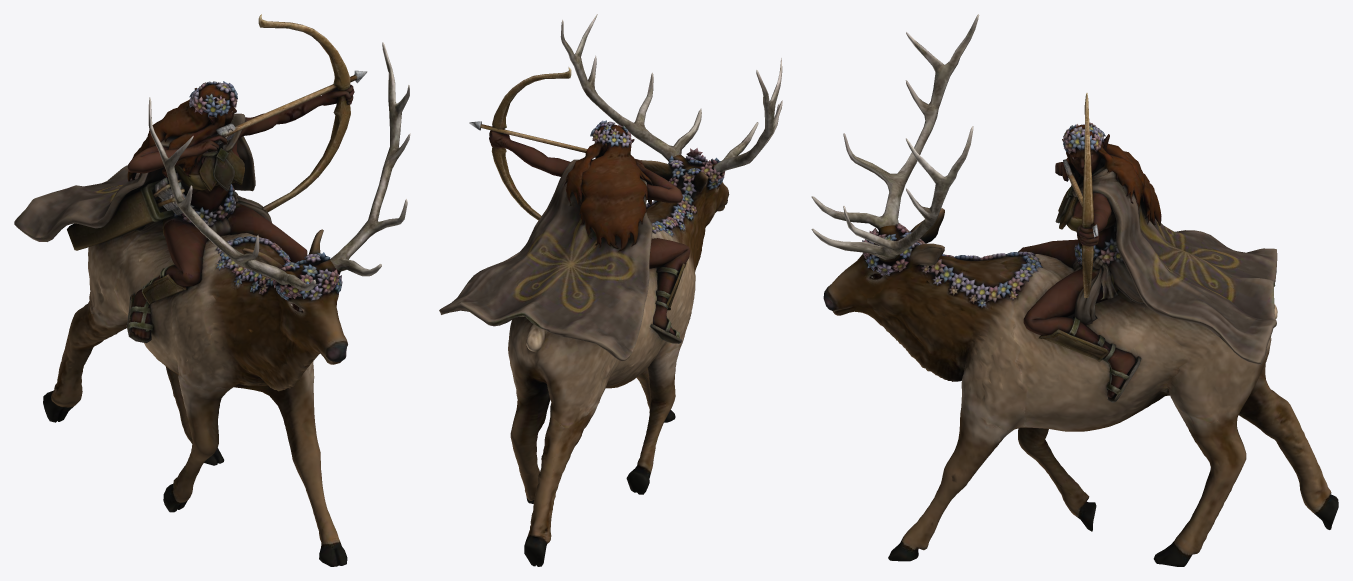
Rendered from MZ4250 - Elf Female Ranger on Elk-2.glb.
The picture shows the model from 3 angles, left to right: view 1: azimuth 30°, elevation 25°; view 2: azimuth 150°, elevation 25°; view 3: azimuth 270°, elevation 25°; orthographic projection. The views are drawn at different scales.
Visible parts, largest first — view 1: Body.004; view 2: Body.004; view 3: Body.004.
Boxes of the visible parts, bbox=[...] form: Body.004: bbox=[14, 14, 410, 566]; Body.004: bbox=[439, 14, 782, 566]; Body.004: bbox=[811, 14, 1338, 566].
Bounding box in the file's own units: 0.8543 × 1.38 × 1.38.
1 material, 1 textured.
